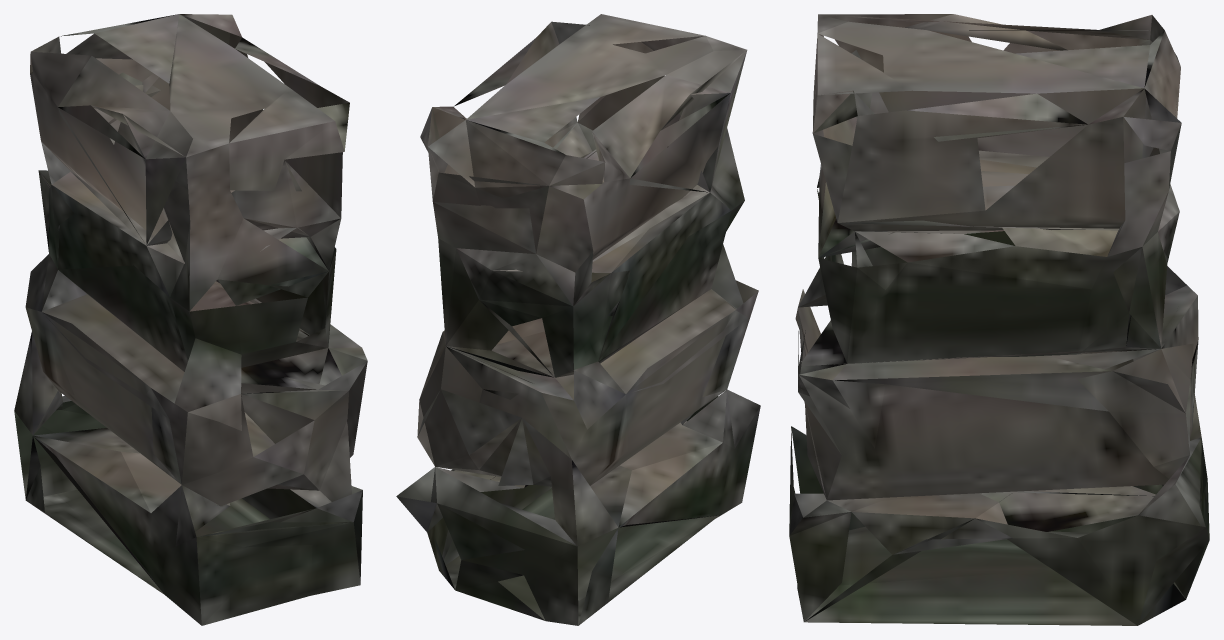
The model's file is crates_1599852408_lod1.glb.
The picture shows the model from 3 angles, left to right: view 1: azimuth 30°, elevation 25°; view 2: azimuth 150°, elevation 25°; view 3: azimuth 270°, elevation 25°; orthographic projection. The views are drawn at different scales.
Bounding box in the file's own units: 0.8637 × 1.97 × 1.43.
1 material, 1 textured.
